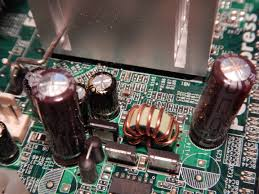capacitor: (194, 43, 252, 159), (27, 65, 83, 168), (85, 65, 120, 117)
